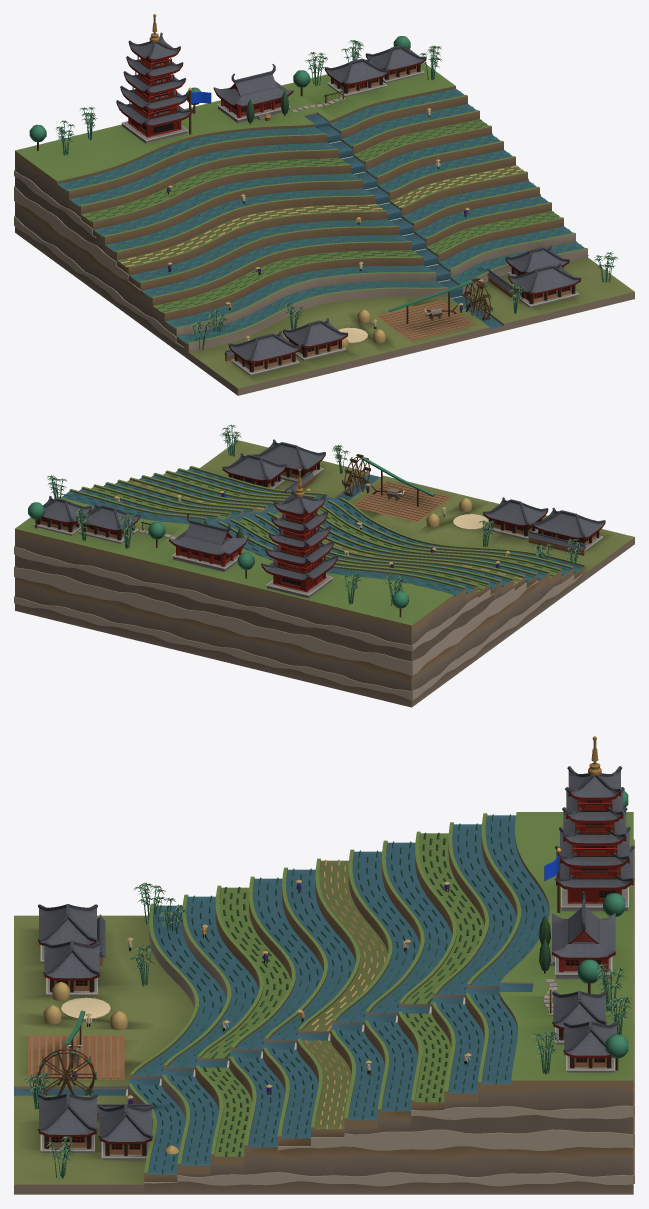
Rendered from lm_pirincteras.glb.
3 renders of one model, top to bottom at view 1: azimuth 30°, elevation 25°; view 2: azimuth 150°, elevation 25°; view 3: azimuth 270°, elevation 25°, orthographic. The views are drawn at different scales.
Visible parts, largest first — view 1: lm_pirincteras; view 2: lm_pirincteras; view 3: lm_pirincteras.
Boxes of the visible parts, x1,y1,x2,y2 form: lm_pirincteras: [14, 14, 634, 395]; lm_pirincteras: [14, 424, 634, 707]; lm_pirincteras: [14, 736, 634, 1194].
Bounding box in the file's own units: 2.31 × 1.11 × 2.25.
1 material, 1 textured.
